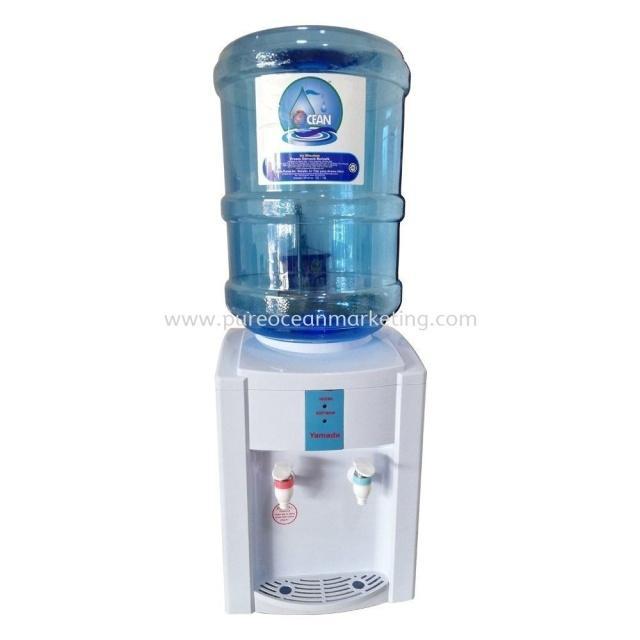Dispenser: (211, 24, 426, 616)
